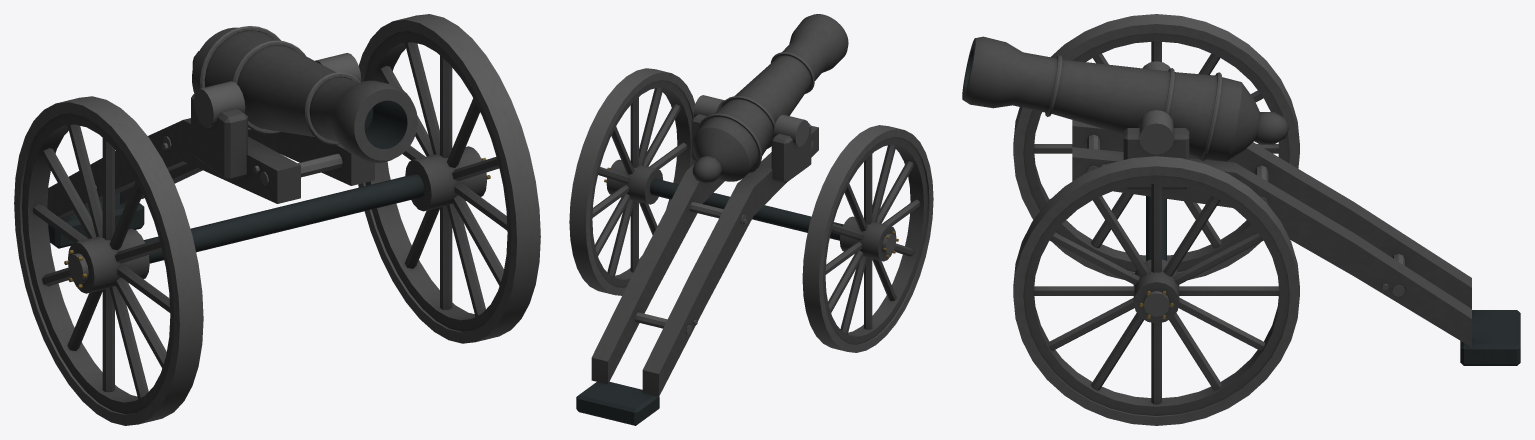
File: cannon.glb
3 renders of one model, left to right at view 1: azimuth 30°, elevation 25°; view 2: azimuth 150°, elevation 25°; view 3: azimuth 270°, elevation 25°, orthographic. The views are drawn at different scales.
Visible parts, largest first — view 1: cannon_static_0, cannon_wheel_left_1, cannon_wheel_right_2; view 2: cannon_static_0, cannon_wheel_left_1, cannon_wheel_right_2; view 3: cannon_static_0, cannon_wheel_right_2, cannon_wheel_left_1.
Part boxes in pixels (x1,y1,x2,y2): cannon_static_0: [47, 26, 424, 263]; cannon_wheel_left_1: [14, 96, 203, 425]; cannon_wheel_right_2: [358, 14, 540, 343]; cannon_static_0: [576, 14, 848, 425]; cannon_wheel_left_1: [802, 125, 933, 352]; cannon_wheel_right_2: [569, 68, 695, 295]; cannon_static_0: [962, 36, 1520, 365]; cannon_wheel_right_2: [1013, 156, 1299, 425]; cannon_wheel_left_1: [1013, 14, 1299, 279].
Bounding box in the file's own units: 1.54 × 1.3 × 2.12.
Materials: 1 (1 with a texture image).
